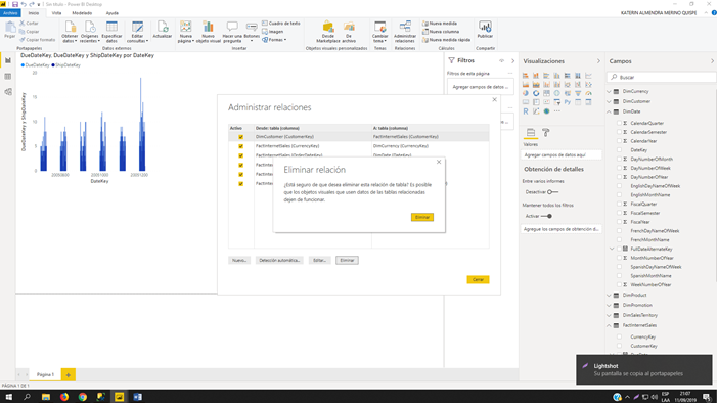

The page's visual inventory and layout, read from the dashboard file:
{"tool":"powerbi","page":{"name":"Página 1","canvas":[1280,720],"ordinal":0},"visuals":[{"type":"clusteredColumnChart","fields":{"Y":["CountNonNull(FactInternetSales.DueDateKey)","CountNonNull(FactInternetSales.DueDateKey)","CountNonNull(FactInternetSales.ShipDateKey)"],"Category":["DimDate.DateKey"]},"box":[10.1,0,450.9,398.3],"z":0},{"type":"clusteredColumnChart","fields":{"Y":["CountNonNull(DimProductSubcategory.CategoryKey)","CountNonNull(DimProductCategory.CategoryKey)"]},"box":[461,0,483.4,360.3],"z":1000}]}

Visuals, with their boxes on the page's 1280x720 design canvas (x1, y1, x2, y2). These are canvas units, not pixel positions in the 717x403 screenshot, which may show the page scaled, cropped or inside an application window:
clusteredColumnChart - CountNonNull(FactInternetSales.DueDateKey) x CountNonNull(FactInternetSales.DueDateKey): select_region(10, 0, 461, 398)
clusteredColumnChart - CountNonNull(DimProductSubcategory.CategoryKey) x CountNonNull(DimProductCategory.CategoryKey): select_region(461, 0, 944, 360)
